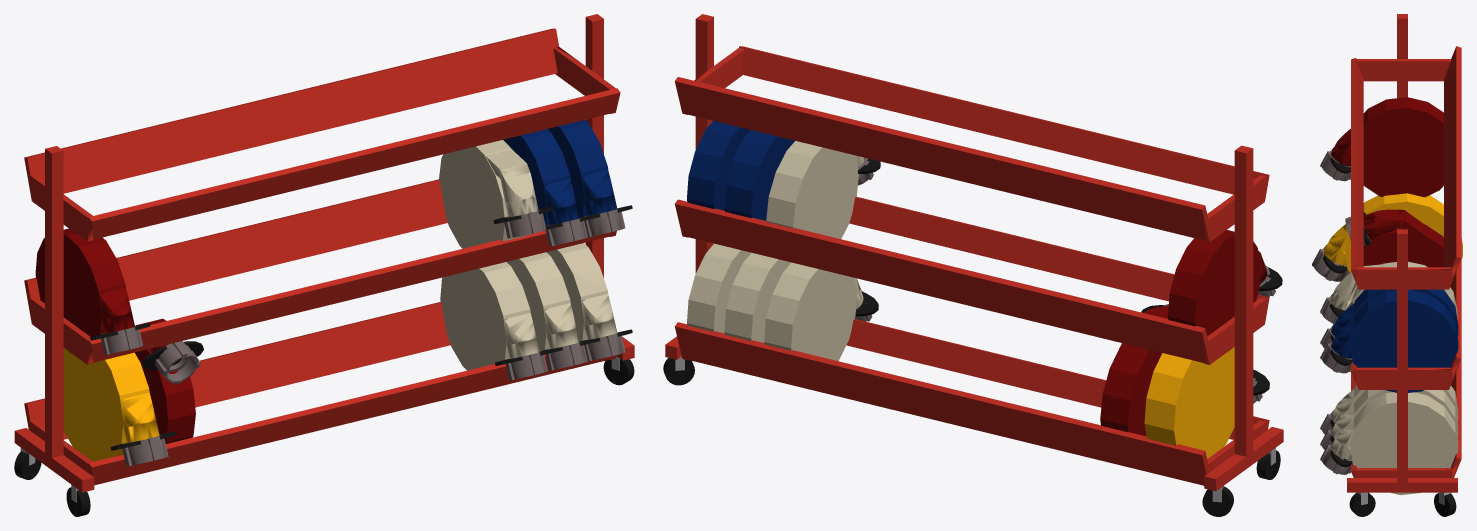
File: tiem-may-ke-vai.glb
The picture shows the model from 3 angles, left to right: view 1: azimuth 30°, elevation 25°; view 2: azimuth 150°, elevation 25°; view 3: azimuth 270°, elevation 25°; orthographic projection. The views are drawn at different scales.
Visible parts, largest first — view 1: tiem-may-ke-vai; view 2: tiem-may-ke-vai; view 3: tiem-may-ke-vai.
Part boxes in pixels (x1,y1,x2,y2): tiem-may-ke-vai: [14, 14, 634, 516]; tiem-may-ke-vai: [663, 14, 1283, 516]; tiem-may-ke-vai: [1312, 14, 1462, 516].
Bounding box in the file's own units: 9.66 × 5.65 × 2.72.
